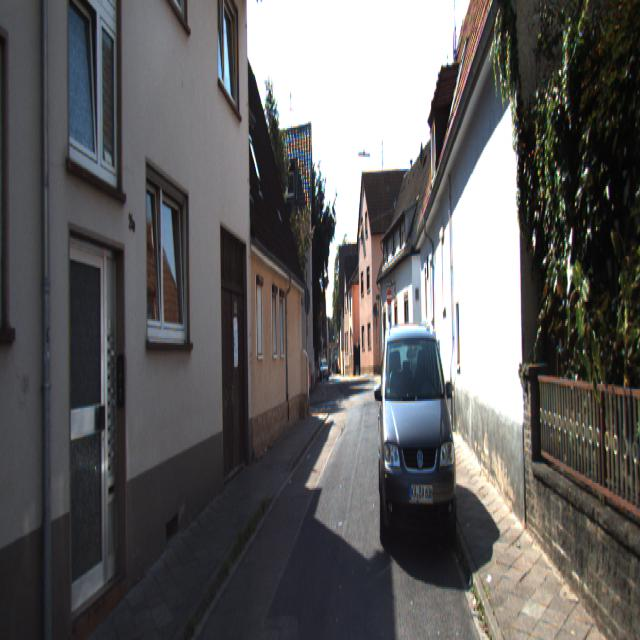Car: (377, 315, 463, 564)
